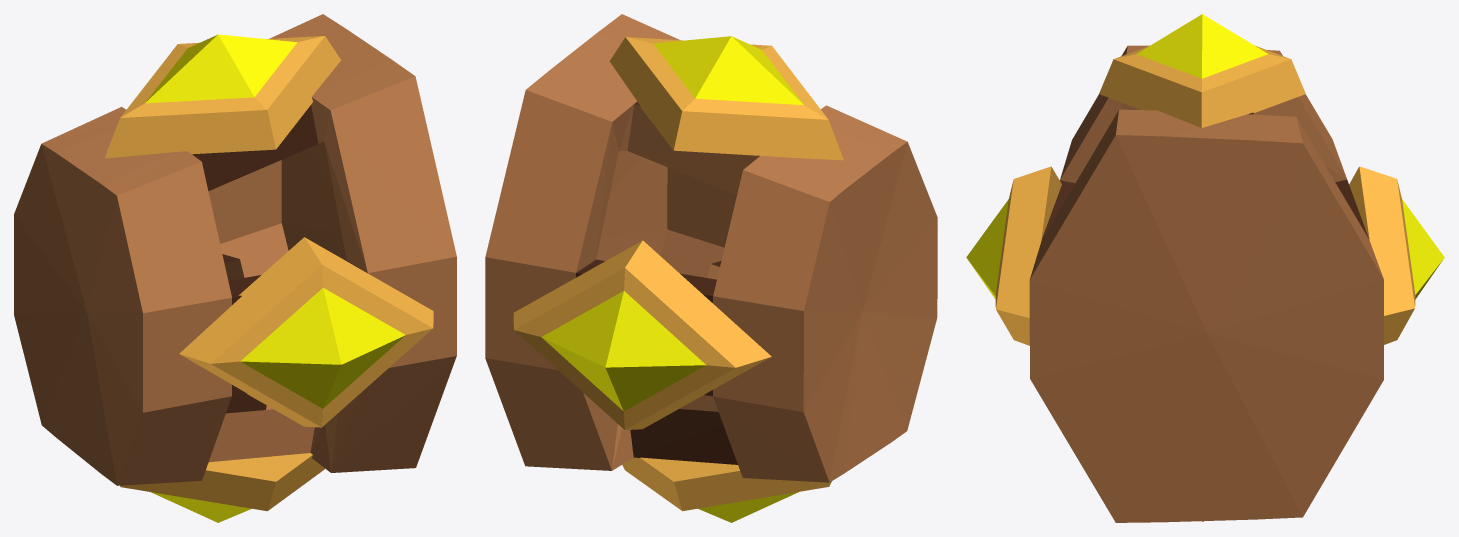
Rendered from Bracer 06.FBX.
The picture shows the model from 3 angles, left to right: view 1: azimuth 30°, elevation 25°; view 2: azimuth 150°, elevation 25°; view 3: azimuth 270°, elevation 25°; orthographic projection.
Parts seen in each view (by area): view 1: Bracer 06; view 2: Bracer 06; view 3: Bracer 06.
Part boxes in pixels (bbox=[...]): Bracer 06: bbox=[14, 14, 456, 522]; Bracer 06: bbox=[485, 14, 937, 522]; Bracer 06: bbox=[966, 14, 1444, 522].
Size of the model in its own units: 14.18 by 19.61 by 21.86.
Materials: 1 (1 with a texture image).
